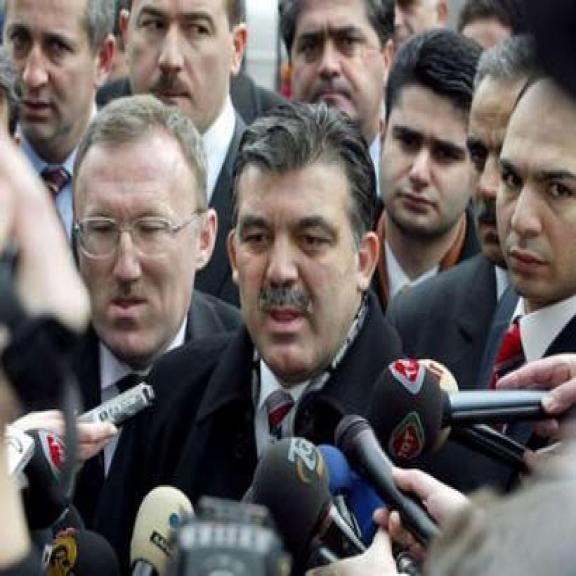face: (225, 155, 382, 378), (75, 132, 221, 363), (9, 0, 121, 146), (381, 69, 477, 237), (501, 92, 576, 306), (130, 2, 254, 120), (287, 0, 395, 130), (467, 71, 513, 274)
